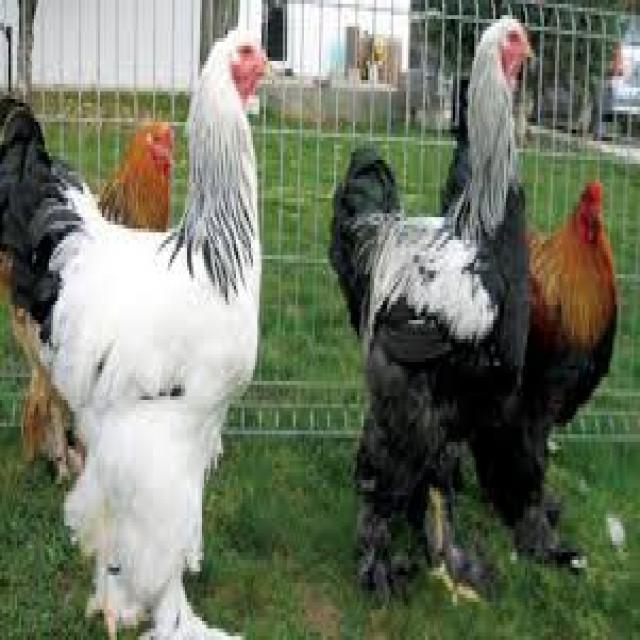Healthy: (10, 18, 282, 453), (319, 18, 554, 424)
